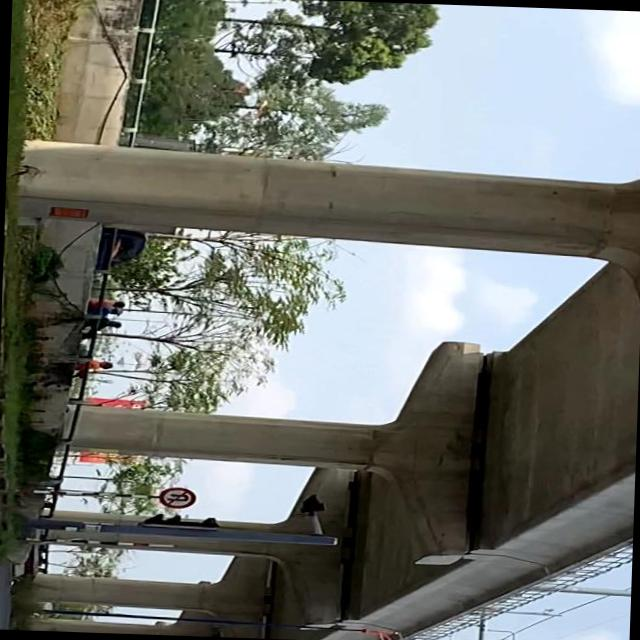P-124a1: (158, 484, 195, 510)
